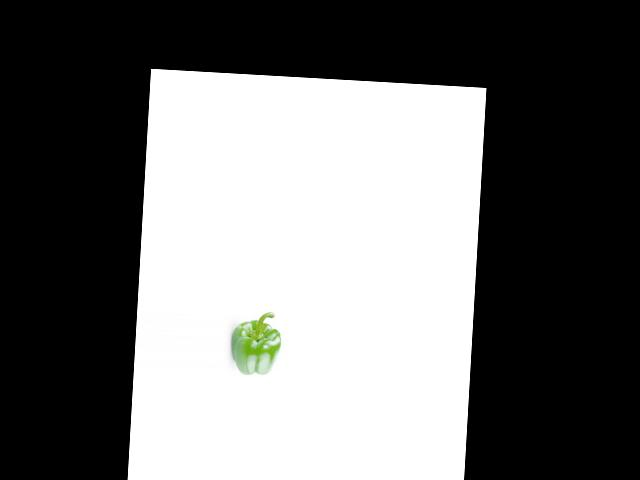bell_pepper: (230, 308, 283, 378)
